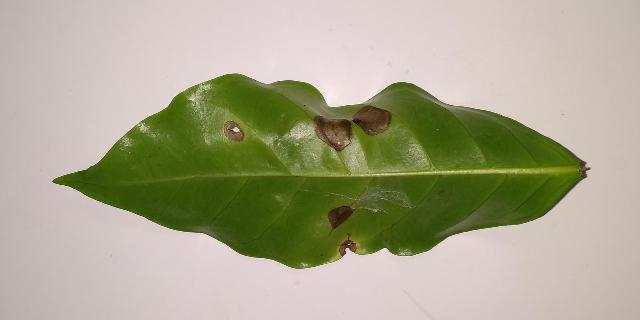rust: (313, 104, 391, 152), (328, 206, 353, 228), (223, 122, 244, 141), (338, 239, 356, 257)
